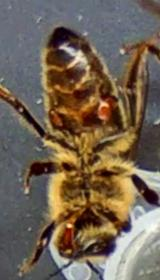varroa_mite: (85, 89, 127, 133), (43, 100, 69, 136)
